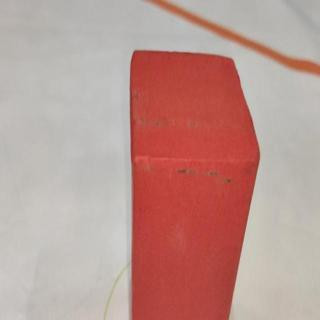redbox: (127, 48, 261, 320)
